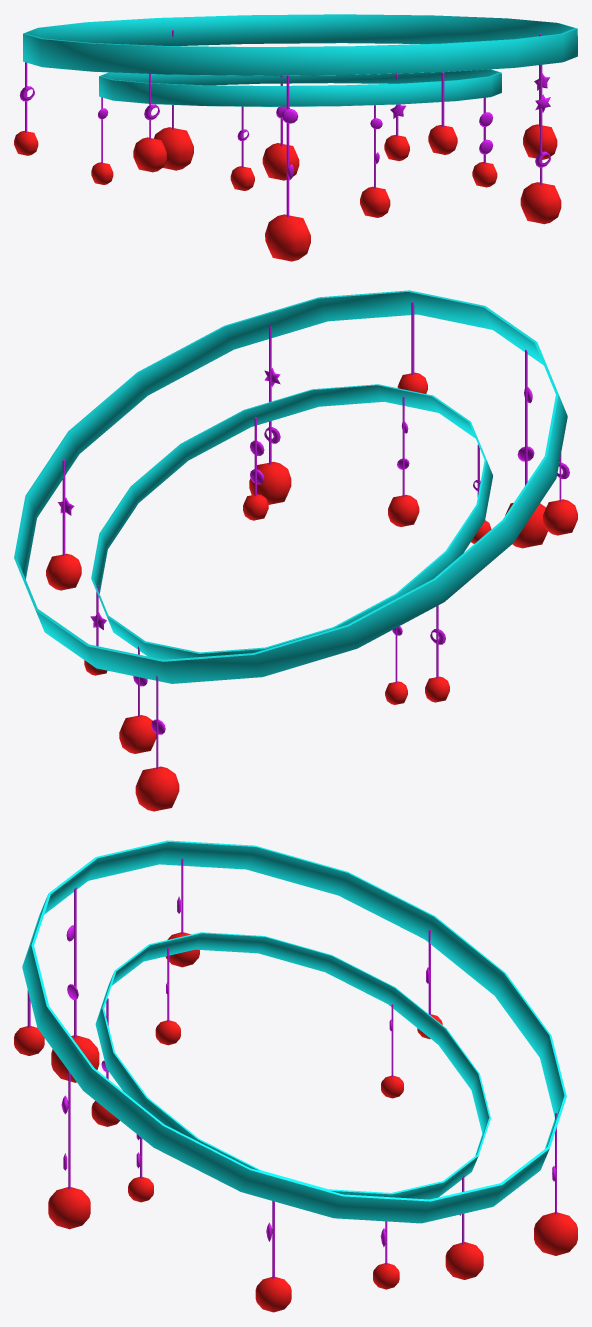
The model's file is SM_Jamiwa_Mobil.fbx.
3 views of the same model, one above another, from view 1: azimuth 30°, elevation 25°; view 2: azimuth 150°, elevation 25°; view 3: azimuth 270°, elevation 25° (orthographic). The views are drawn at different scales.
Parts seen in each view (by area): view 1: body; view 2: body; view 3: body.
Boxes of the visible parts, x1,y1,x2,y2 form: body: (14, 14, 577, 261); body: (14, 290, 577, 811); body: (14, 840, 577, 1312).
Size of the model in its own units: 1500 by 954 by 1493.
